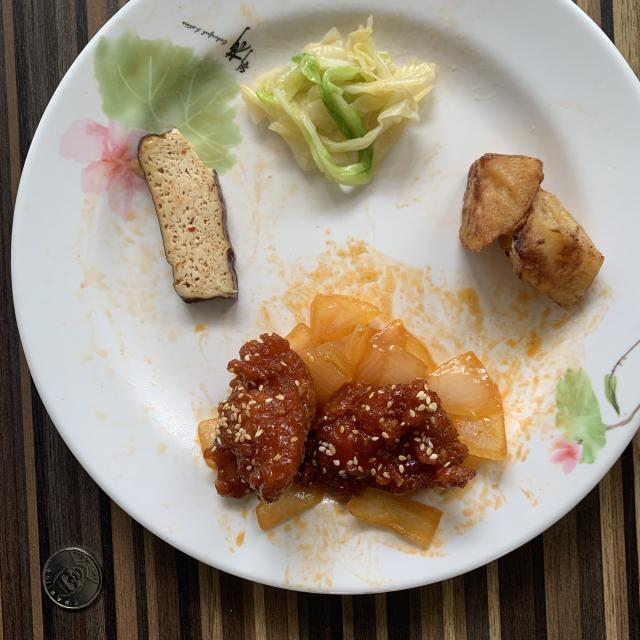cabbage: (241, 16, 436, 185)
coin: (42, 548, 102, 610)
firm tofu: (138, 129, 238, 302)
fried potato: (460, 154, 604, 310)
